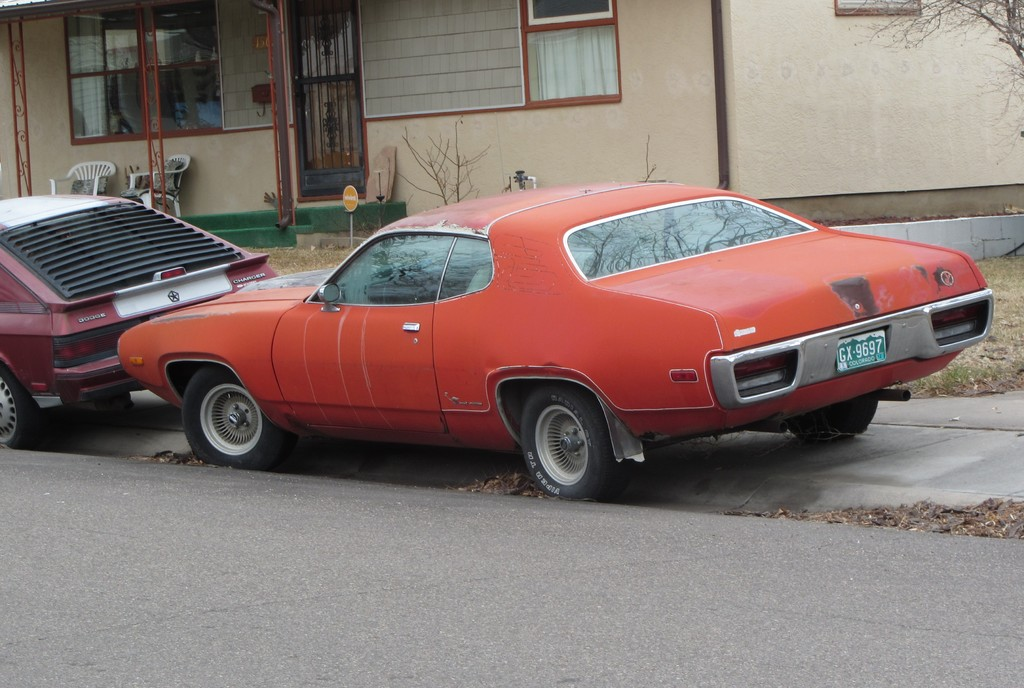Car: (116, 185, 995, 499), (0, 194, 282, 448)
